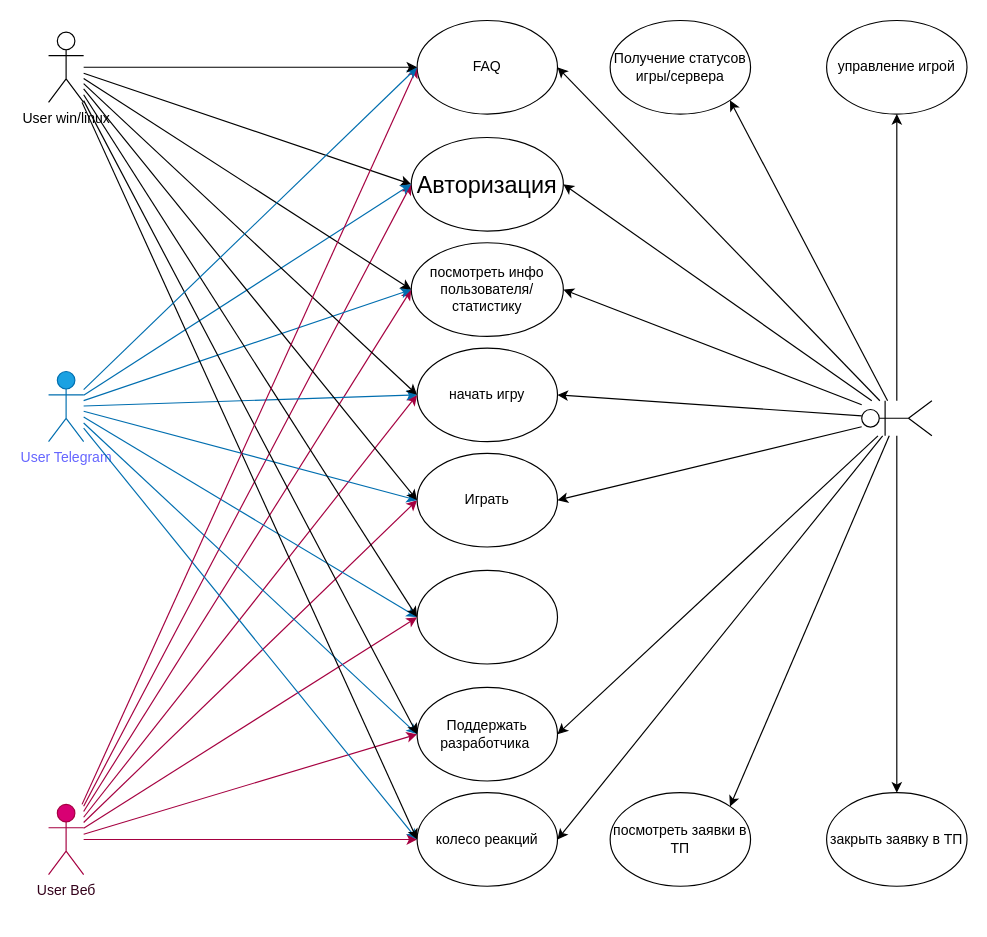
This 987x937 diagram has some shape labels left out. Here are the shapes that lost their labels. From the top down, the centre of each, then its label:
point 896,418: superAdmin
point 487,616: написать в тех. поддержку
